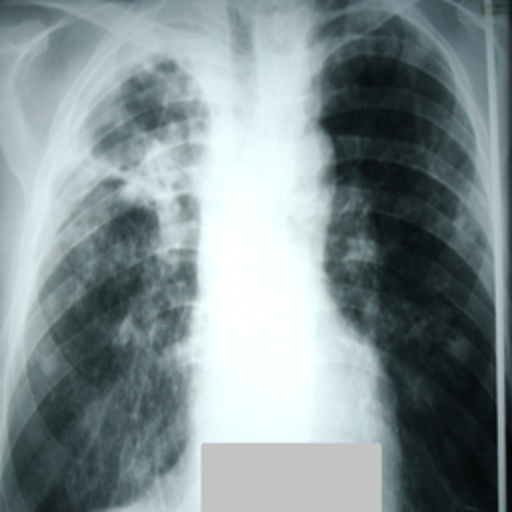TB: (34, 63, 176, 278), (441, 90, 487, 275)
